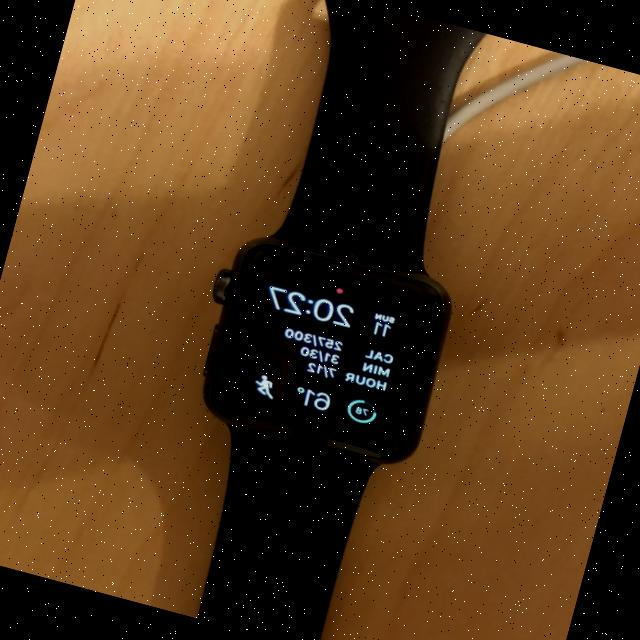Wrist watch: (129, 0, 525, 640)
